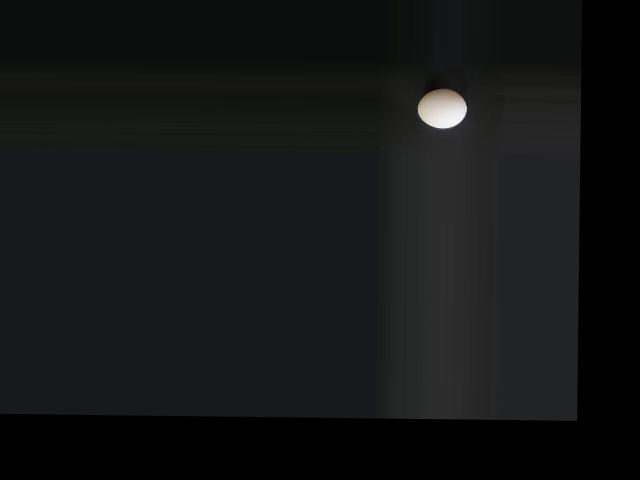egg: (416, 88, 465, 128)
